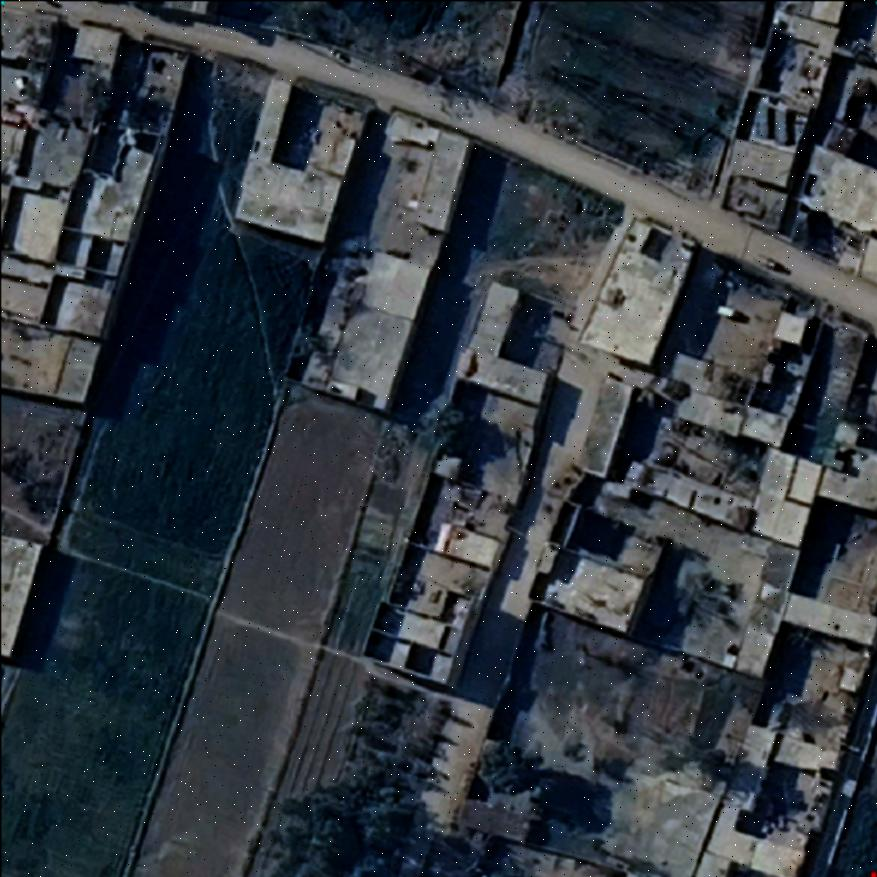Solarpanel: (752, 102, 772, 142), (772, 108, 792, 146)
